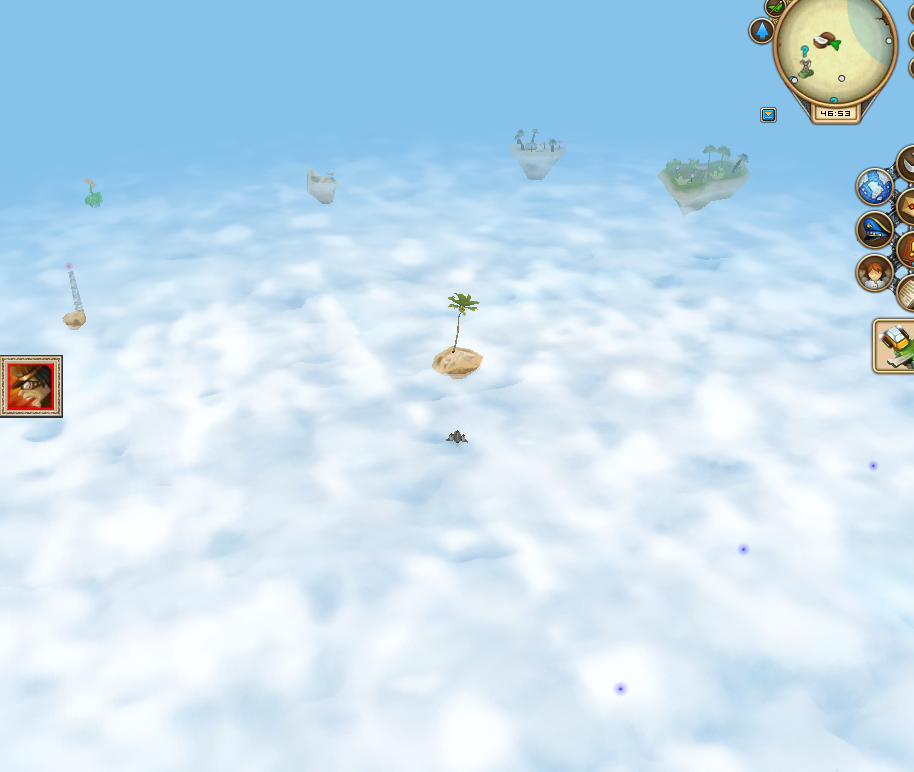dandelion-empty: (428, 286, 491, 384)
dandelion-full: (78, 172, 105, 213)
